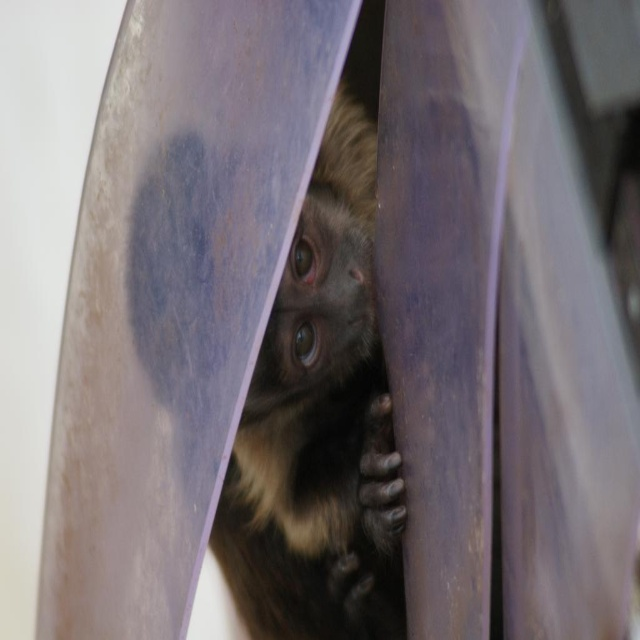Monkey: (218, 79, 407, 639)
